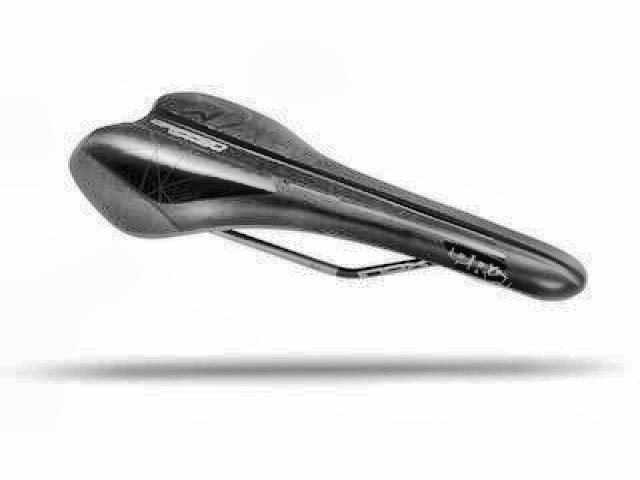saddle: (63, 87, 592, 305)
